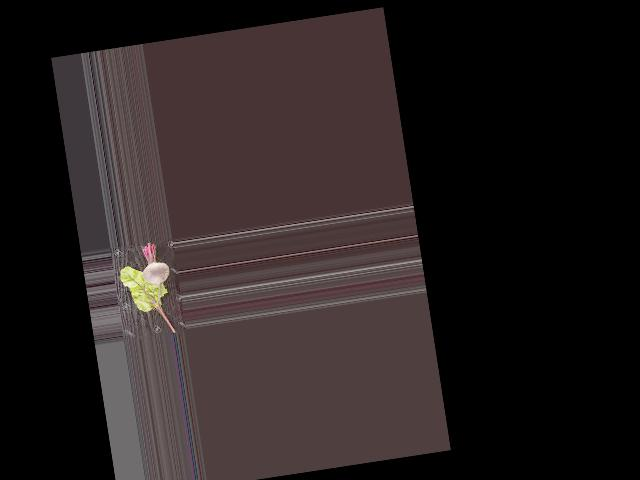beet: (138, 239, 175, 310)
